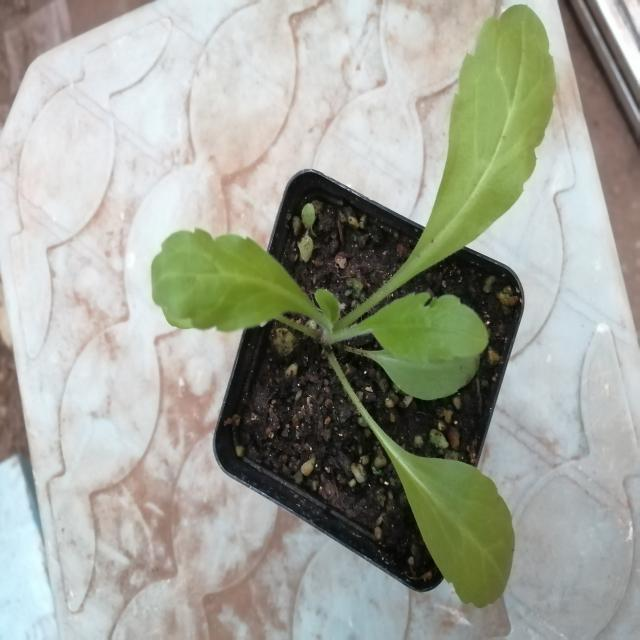horseweed: (192, 31, 544, 586)
